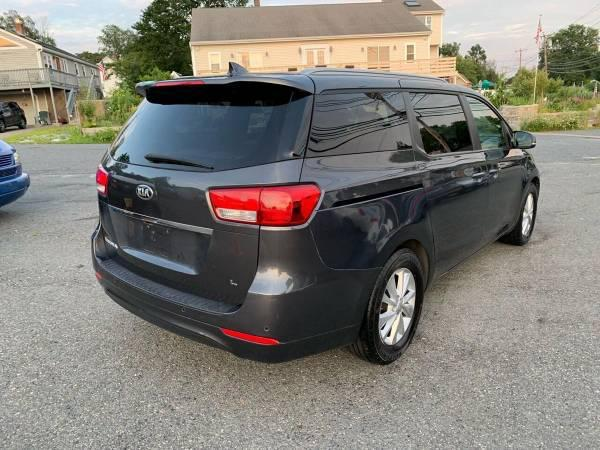Front_Right_Door: (483, 148, 524, 244)
Front_Right_Window: (466, 96, 525, 151)
Left_Taillight: (97, 164, 111, 201)
Rear_Bumper: (88, 216, 381, 355)
Rear_Fender: (297, 90, 435, 277)
Rear_Right_Door: (417, 151, 488, 275)
Rear_Right_Window: (403, 90, 480, 156)
Rear_Windshield: (113, 80, 316, 170)
Right_Taillight: (205, 181, 321, 229)
Roof: (145, 70, 495, 101)
Tailgate: (98, 149, 308, 305)
Wheel: (361, 248, 425, 364), (516, 185, 535, 239)
